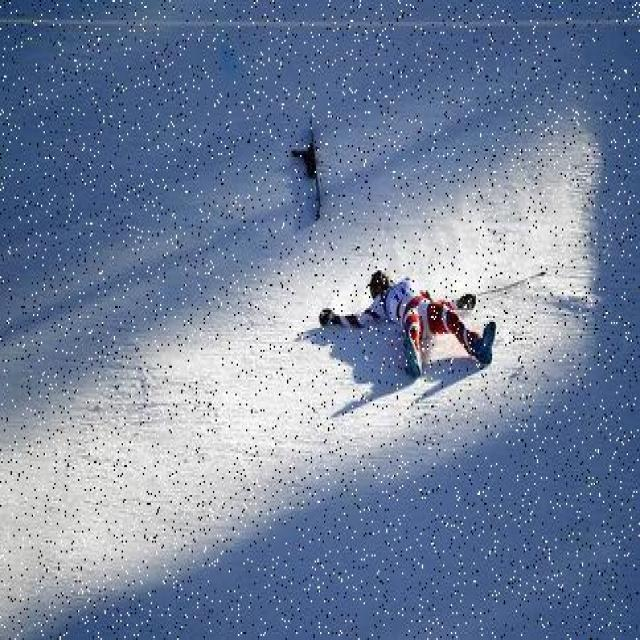fall: (317, 266, 498, 368)
